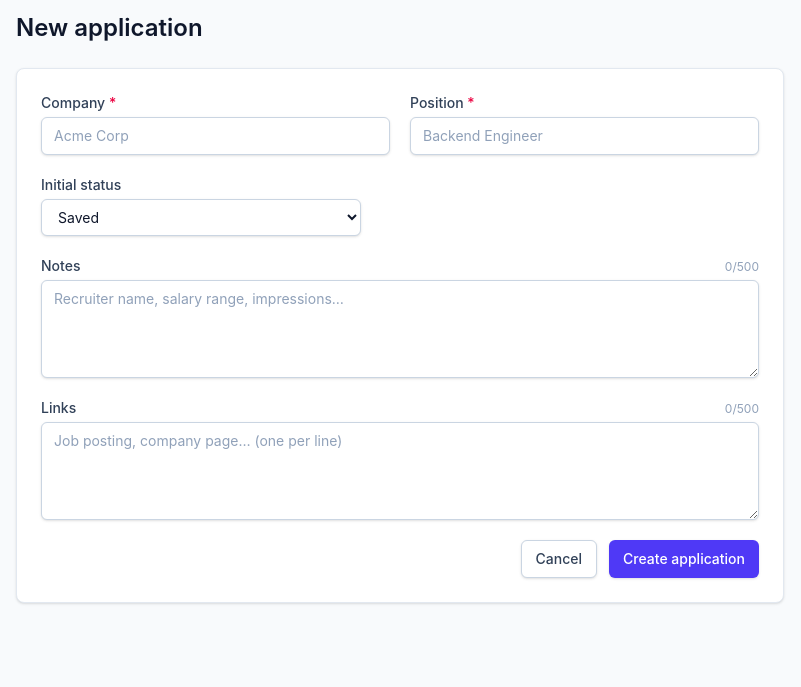
Scenario: NewApplicationPage › shows other errors above the form
Step 1. Type "Acme" into the field labelled "Company *" → coordinates (216, 136), box [41,117,390,155]
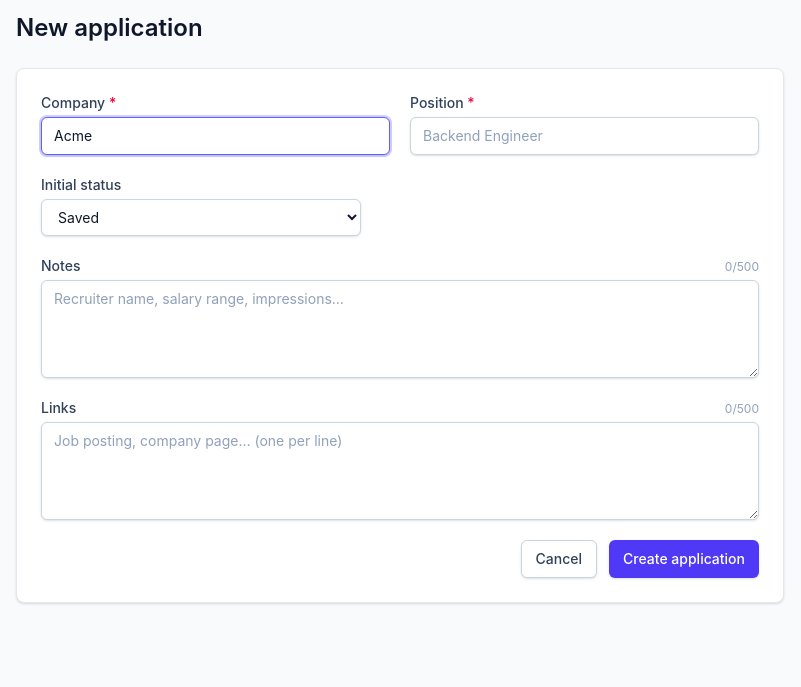
Step 2. Type "Dev" into the field labelled "Position *" → coordinates (584, 136), box [410,117,759,155]
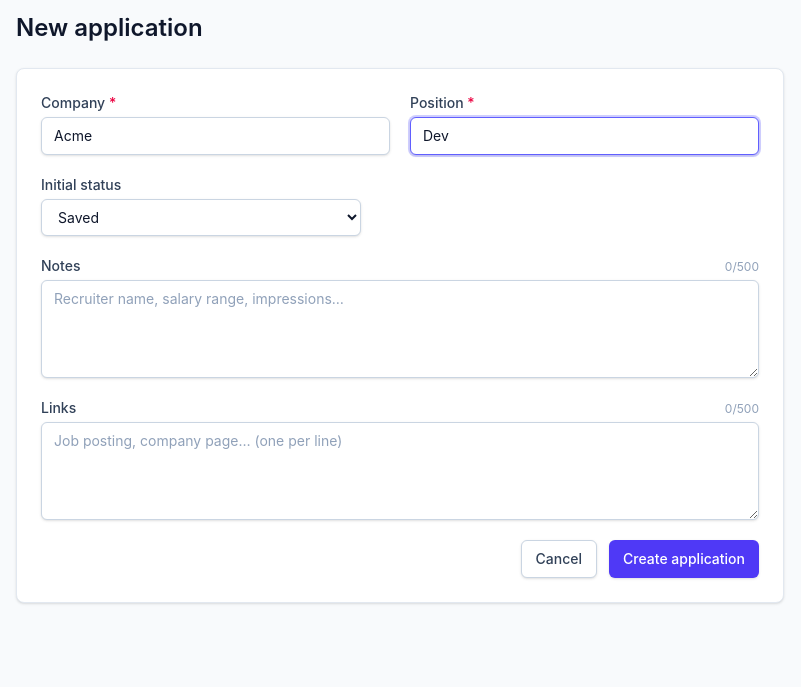
Step 3. Click the button "Create application" → coordinates (684, 559), box [609,540,759,578]
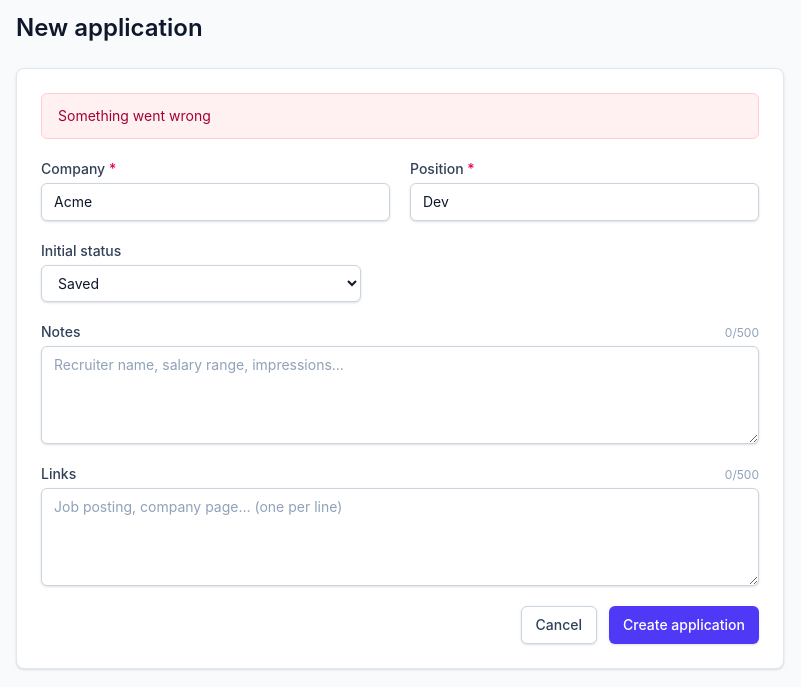
Expected: the message reads "Something went wrong", [58,107,211,124]
